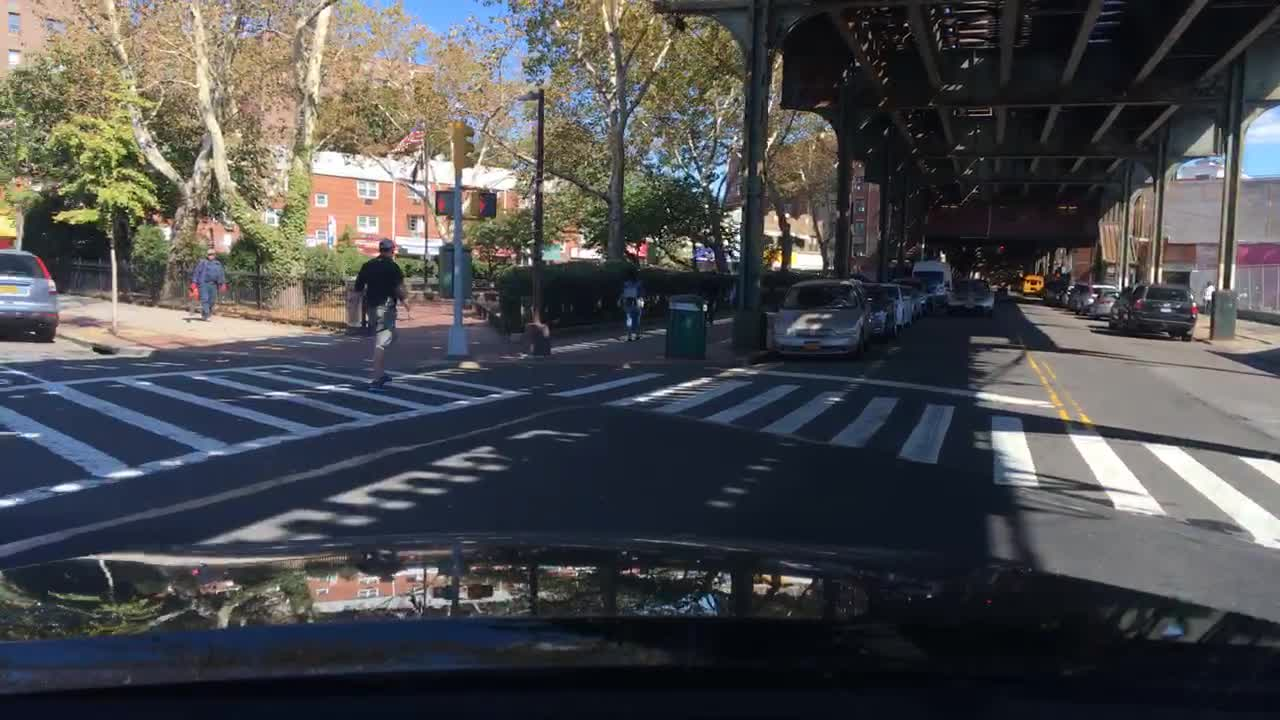bus: (1020, 274, 1045, 295)
car: (772, 278, 870, 358), (0, 247, 61, 340), (1122, 286, 1200, 334), (945, 278, 994, 316), (868, 284, 895, 341), (894, 278, 930, 313), (1076, 284, 1114, 316), (1106, 290, 1129, 325), (1091, 291, 1115, 318), (893, 284, 905, 326), (905, 289, 920, 321), (1043, 281, 1060, 304), (1065, 289, 1080, 311), (1055, 286, 1070, 305)
person: (350, 239, 411, 396), (187, 249, 228, 319), (616, 268, 646, 341), (1200, 279, 1215, 314)
traffic light: (451, 118, 474, 167), (471, 192, 499, 214), (434, 190, 456, 212)
truck: (910, 259, 952, 301)
